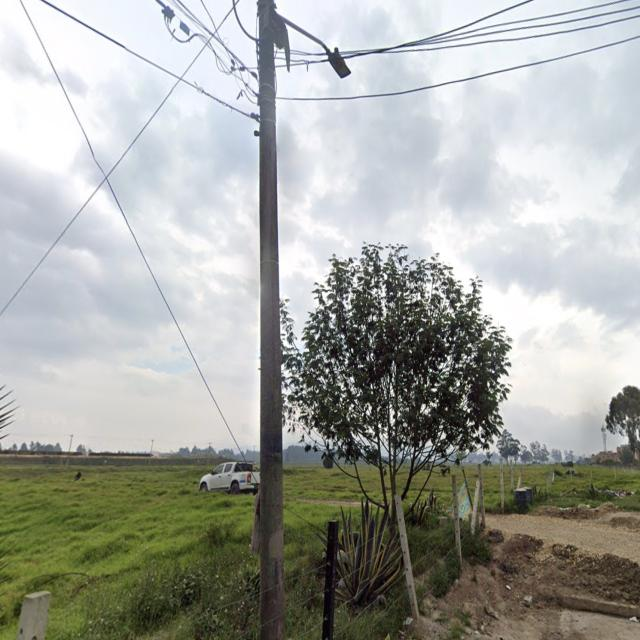Poste: (259, 0, 285, 640)
